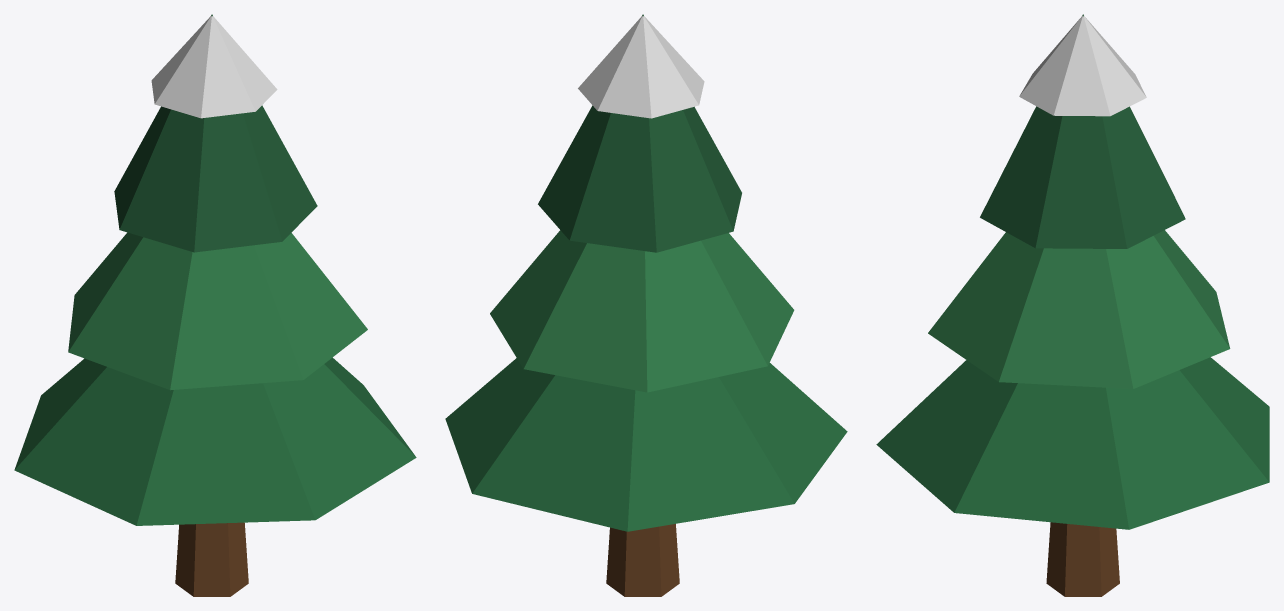
The model's file is pine_snow.glb.
The picture shows the model from 3 angles, left to right: view 1: azimuth 30°, elevation 25°; view 2: azimuth 150°, elevation 25°; view 3: azimuth 270°, elevation 25°; orthographic projection.
Parts seen in each view (by area): view 1: Pine; view 2: Pine; view 3: Pine.
Part boxes in pixels (x1=…): Pine: x1=14, y1=14, x2=416, y2=596; Pine: x1=445, y1=14, x2=847, y2=596; Pine: x1=876, y1=14, x2=1269, y2=596.
Bounding box in the file's own units: 2.63 × 4.1 × 2.57.
